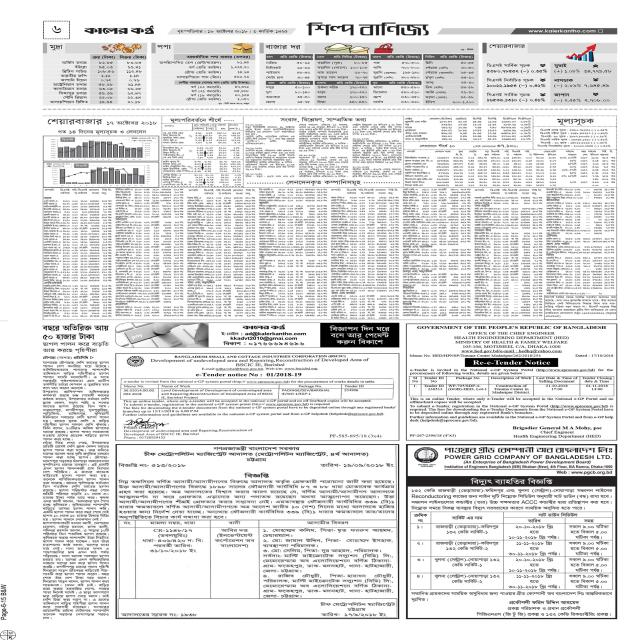advertisement: (114, 445, 398, 617), (407, 444, 618, 618), (115, 353, 400, 441), (407, 323, 617, 439)
image: (115, 322, 213, 349), (48, 164, 148, 185), (52, 140, 148, 158), (319, 43, 395, 54)
paragraph: (41, 521, 110, 619), (472, 233, 547, 317), (41, 196, 110, 282), (41, 441, 110, 520), (331, 197, 387, 291), (115, 221, 161, 304), (42, 390, 111, 441), (257, 206, 327, 256), (258, 271, 330, 317), (187, 195, 222, 283), (224, 194, 256, 282), (161, 188, 185, 304), (545, 256, 615, 290), (546, 202, 613, 235), (41, 359, 110, 390), (402, 188, 437, 248), (441, 187, 472, 246), (544, 293, 616, 318), (187, 283, 230, 317), (537, 128, 611, 147), (116, 188, 159, 220), (72, 284, 112, 318), (298, 124, 349, 150), (329, 293, 376, 319), (352, 139, 402, 163), (257, 187, 328, 203), (473, 207, 518, 231), (245, 148, 295, 169), (250, 179, 399, 186), (43, 285, 73, 318), (300, 156, 348, 176), (245, 125, 295, 144), (543, 188, 616, 201), (39, 340, 110, 353), (229, 284, 256, 318), (551, 67, 613, 79), (258, 259, 327, 269), (351, 123, 402, 136), (544, 246, 614, 255), (473, 196, 530, 207), (486, 78, 547, 88), (403, 272, 441, 288), (353, 166, 402, 178), (545, 237, 615, 245), (376, 295, 399, 319), (486, 93, 547, 102), (115, 306, 159, 318), (520, 208, 544, 230), (403, 290, 439, 304), (315, 64, 365, 74), (402, 259, 440, 272), (403, 306, 443, 318), (45, 187, 112, 194), (403, 247, 438, 259), (552, 97, 611, 104), (552, 82, 611, 89), (444, 291, 471, 303), (439, 248, 471, 258), (447, 274, 471, 287), (443, 306, 471, 317), (444, 260, 471, 271), (342, 189, 399, 194), (163, 306, 184, 317)
table: (260, 43, 478, 106), (403, 150, 616, 190), (486, 41, 617, 105), (42, 42, 147, 105), (152, 43, 255, 106), (162, 130, 242, 187), (403, 116, 532, 141)
text: (158, 59, 252, 81), (177, 80, 253, 104), (328, 324, 392, 346), (221, 332, 306, 345), (171, 27, 292, 35), (485, 90, 551, 104), (125, 61, 146, 103), (551, 90, 614, 104), (97, 62, 118, 103), (38, 341, 109, 353), (550, 63, 615, 76), (82, 25, 155, 36), (487, 63, 548, 76), (550, 77, 614, 89), (488, 77, 547, 88), (552, 66, 611, 75), (99, 43, 148, 52), (565, 50, 597, 62), (183, 55, 253, 60), (487, 69, 545, 75), (90, 56, 146, 62), (91, 55, 147, 60), (488, 43, 527, 50), (264, 43, 303, 50), (41, 355, 94, 360), (242, 324, 285, 330), (488, 62, 529, 68), (264, 44, 302, 50), (489, 83, 543, 87), (266, 55, 315, 59), (50, 100, 89, 105), (49, 24, 65, 36), (442, 54, 471, 60), (318, 64, 347, 70), (317, 75, 351, 80), (55, 77, 88, 82), (49, 83, 88, 87), (59, 68, 90, 73), (280, 81, 311, 86), (58, 90, 88, 95), (59, 73, 88, 78), (422, 143, 457, 147), (62, 60, 90, 65), (155, 44, 175, 51), (387, 56, 422, 60), (386, 81, 421, 85), (233, 45, 252, 52), (262, 94, 284, 100), (454, 93, 475, 99), (49, 43, 64, 51), (293, 89, 313, 95), (542, 150, 559, 157), (466, 147, 479, 156), (449, 100, 478, 104), (154, 44, 173, 50), (293, 94, 312, 100), (347, 100, 369, 105), (334, 56, 370, 59), (318, 61, 345, 65), (48, 44, 63, 51), (399, 90, 420, 95), (335, 81, 369, 84), (425, 93, 445, 98), (292, 100, 312, 105), (350, 85, 370, 90), (349, 65, 368, 70), (371, 75, 394, 79), (371, 71, 401, 74), (401, 75, 419, 80), (349, 94, 367, 99), (492, 148, 502, 157), (511, 149, 522, 157), (555, 78, 572, 83), (315, 88, 327, 95), (373, 89, 387, 95), (61, 61, 88, 64), (263, 76, 290, 79), (267, 65, 283, 70), (426, 85, 446, 89), (562, 151, 578, 156), (371, 93, 384, 99), (533, 152, 546, 158), (501, 150, 512, 157), (398, 100, 417, 104), (296, 75, 311, 80), (354, 74, 368, 79), (454, 149, 464, 156), (264, 61, 281, 65), (457, 67, 474, 71), (398, 61, 420, 64), (370, 80, 381, 86), (291, 86, 323, 88), (264, 99, 280, 103), (523, 149, 532, 156), (553, 63, 568, 67), (457, 84, 472, 88), (424, 80, 439, 84), (461, 81, 476, 85), (553, 93, 573, 96), (589, 150, 599, 156), (295, 71, 314, 74), (460, 47, 474, 51), (600, 149, 608, 156), (371, 55, 382, 60), (316, 100, 327, 105), (405, 151, 423, 154), (553, 93, 570, 96), (267, 81, 277, 86), (297, 61, 313, 64), (482, 149, 490, 155), (426, 67, 449, 69), (316, 55, 327, 59), (452, 76, 474, 78), (269, 86, 280, 90), (555, 64, 566, 68), (373, 59, 380, 65), (460, 61, 474, 64), (400, 86, 421, 88), (582, 149, 588, 156), (425, 76, 445, 78), (71, 66, 90, 68), (424, 100, 433, 104), (317, 95, 327, 98), (320, 82, 329, 85), (424, 62, 436, 64), (431, 152, 454, 153), (378, 101, 388, 103), (427, 55, 433, 58), (610, 149, 612, 153)
title: (306, 19, 432, 38), (41, 322, 111, 340), (46, 117, 158, 126), (254, 178, 392, 185), (54, 129, 149, 135), (281, 117, 365, 123), (167, 117, 227, 122), (555, 118, 596, 125)
